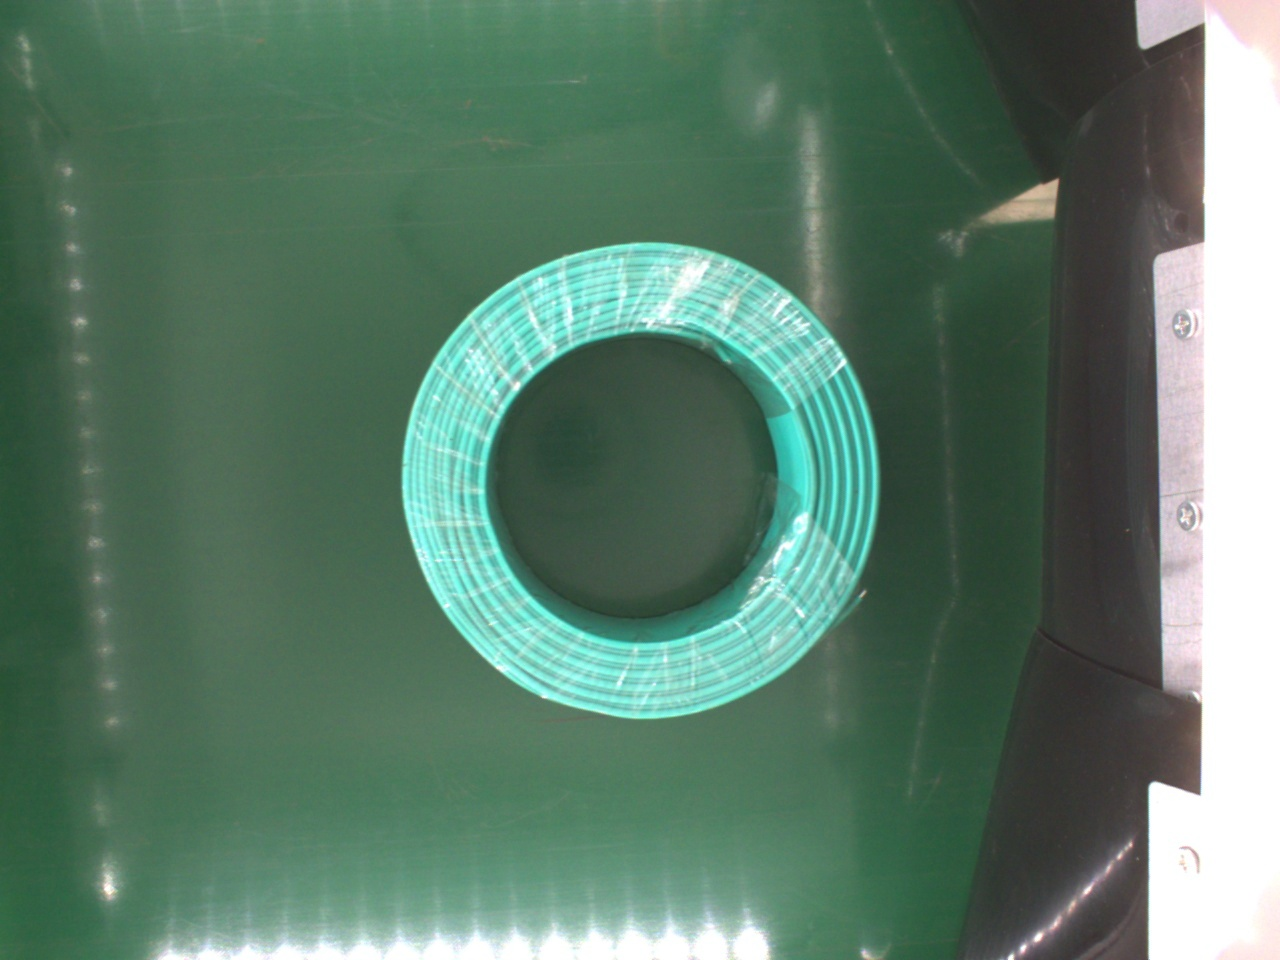green: (399, 238, 883, 714)
